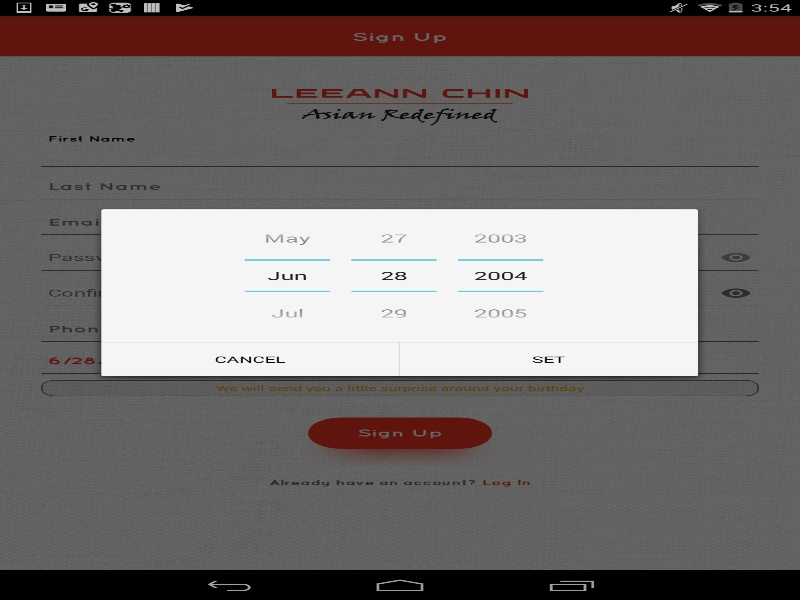Button: (400, 342, 698, 376), (101, 342, 398, 376), (244, 219, 330, 260), (244, 290, 330, 331), (351, 219, 436, 260), (351, 290, 436, 331), (458, 219, 543, 260), (458, 290, 543, 331)
Input: (244, 260, 330, 290), (351, 260, 436, 290), (458, 260, 543, 290)
